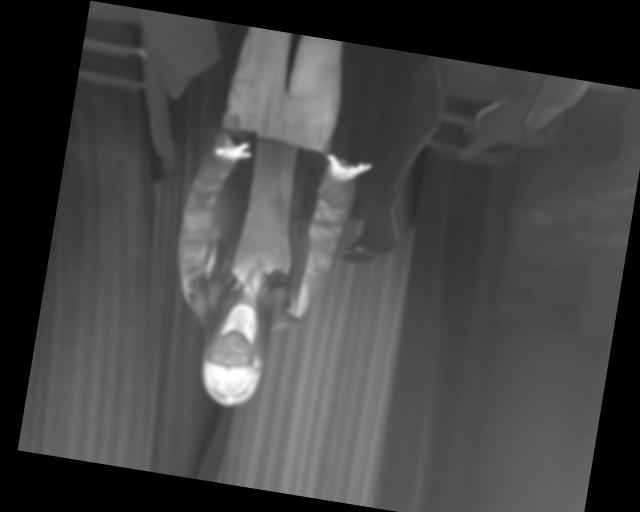face: (301, 176, 378, 275)
